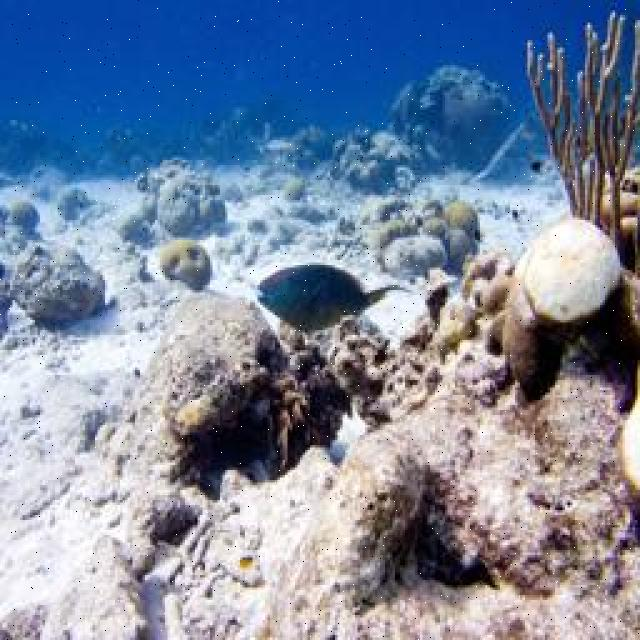reefs: (525, 10, 638, 253)
sea-floor: (0, 66, 638, 638)
